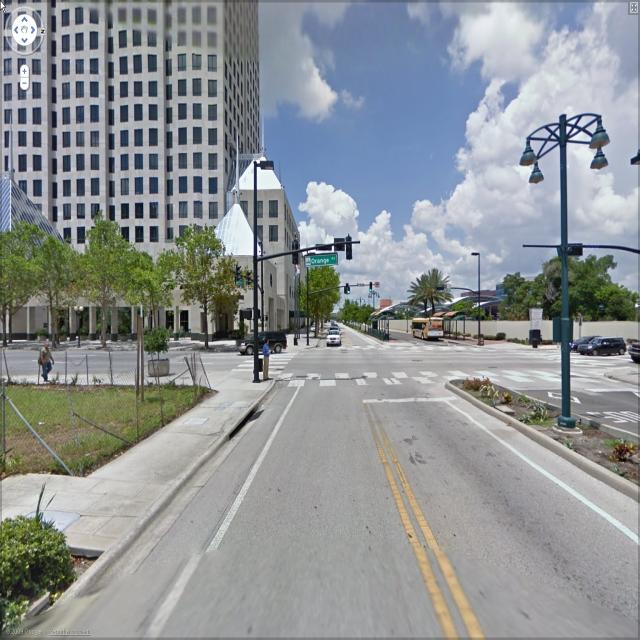b_2: (3, 1, 303, 335), (482, 270, 538, 316), (372, 292, 410, 328)
